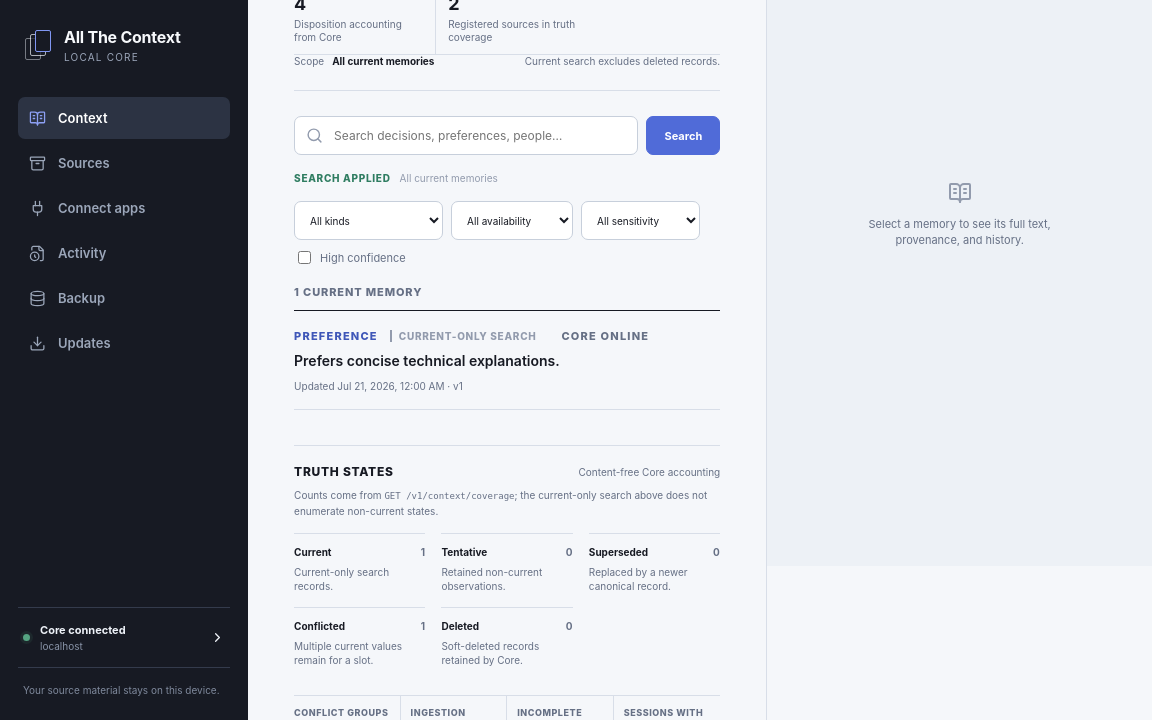
Test: dashboard › loads content-free truth accounting and selected canonical truth without N+1 row requests
This screenshot has width=1152, height=720.
(page scrolled)
Expected: the text "Conflict groups" is shown, [294,707,390,718]
Expected: the text "1" is shown 2 times, [421,546,425,558]; [421,620,425,632]
Click the button with aria-label "preference memory" at coordinates (507, 361), box [294,311,720,410]
(page scrolled)
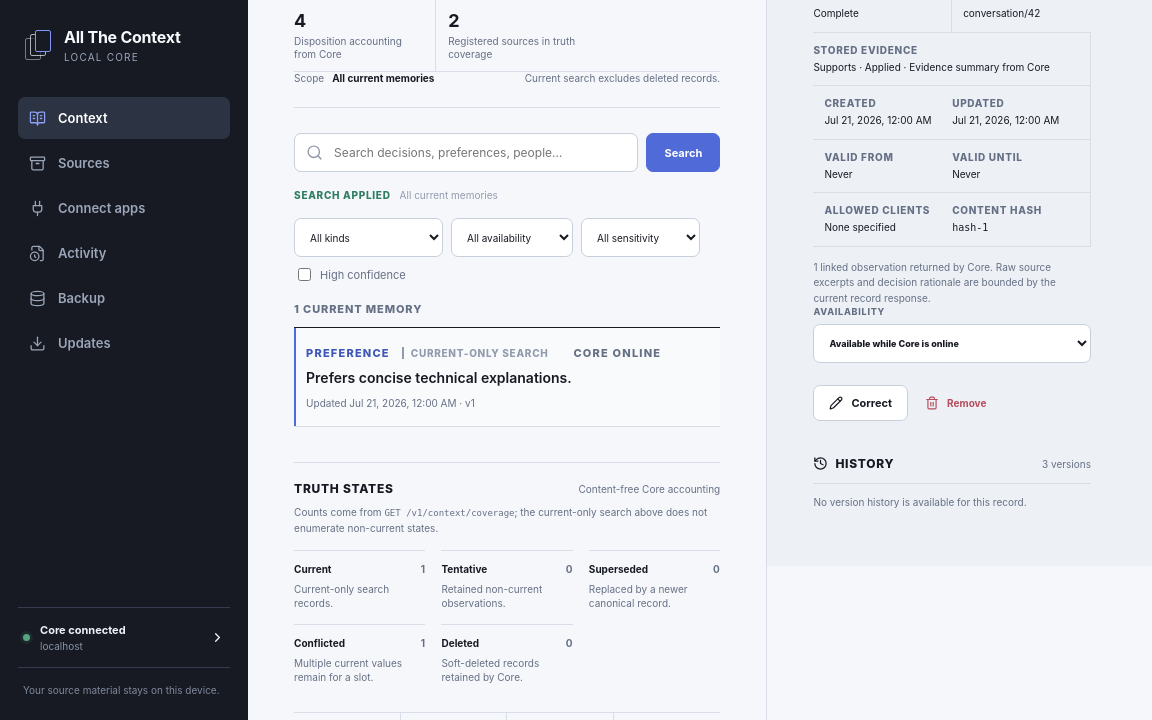
Expected: the text "Supports · Applied · Evidence summary from Core" is shown, [813,61,1080,74]
Expected: the text "3 versions" is shown, [1042,458,1091,470]
Select "Only on this device" in the dropdown labelled "Availability" at coordinates (952, 344), box [813,324,1091,363]
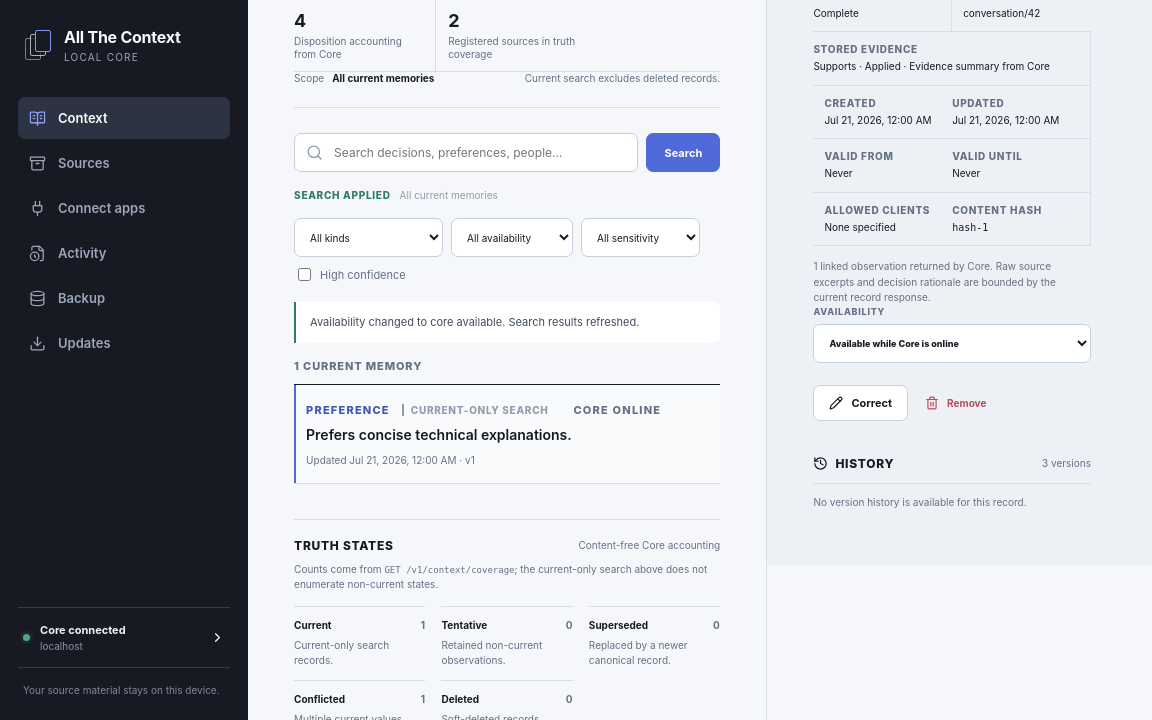
Expected: the text "Availability changed to core available. Search results refreshed." is shown, [294,302,720,343]
